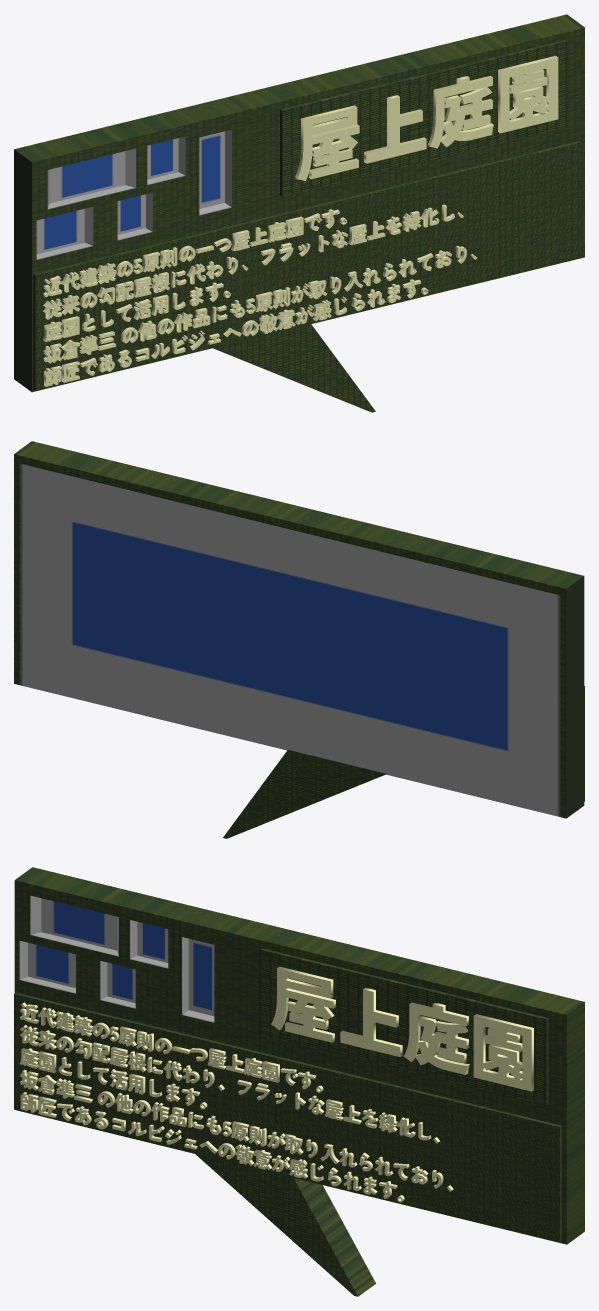
The model's file is fukidasi-okujouteien2.glb.
The picture shows the model from 3 angles, top to bottom: view 1: azimuth 30°, elevation 25°; view 2: azimuth 150°, elevation 25°; view 3: azimuth 330°, elevation 25°; orthographic projection.
Parts seen in each view (by area): view 1: 立方体, 立方体.002, テキスト.001, 立方体.003, テキスト, 立方体.001; view 2: 立方体, 立方体.001; view 3: 立方体, 立方体.002, テキスト.001, 立方体.003, テキスト, 立方体.001.
Boxes of the visible parts, x1,y1,x2,y2 form: 立方体: [14, 14, 584, 392]; 立方体.002: [33, 141, 581, 390]; テキスト.001: [43, 204, 477, 386]; 立方体.003: [280, 39, 568, 196]; テキスト: [295, 55, 558, 181]; 立方体.001: [212, 324, 375, 412]; 立方体: [14, 441, 584, 818]; 立方体.001: [223, 750, 386, 838]; 立方体: [14, 867, 584, 1244]; 立方体.002: [14, 992, 561, 1242]; テキスト.001: [19, 1002, 453, 1202]; 立方体.003: [260, 948, 548, 1105]; テキスト: [271, 966, 533, 1091]; 立方体.001: [195, 1153, 375, 1296].
Bounding box in the file's own units: 11.12 × 6.4 × 0.7778.
Materials: 5 (4 with a texture image).
